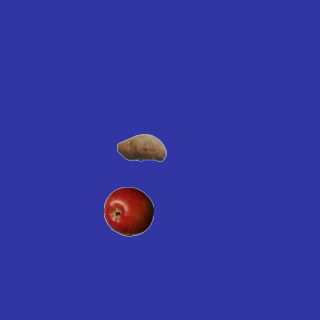Apple Braeburn: (103, 186, 153, 236)
Potato Sweet: (116, 122, 166, 172)
